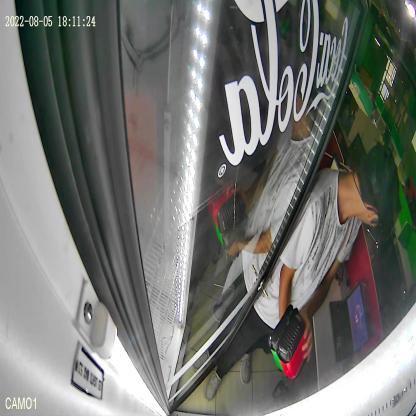green: (268, 304, 294, 372)
red: (276, 308, 310, 380)
